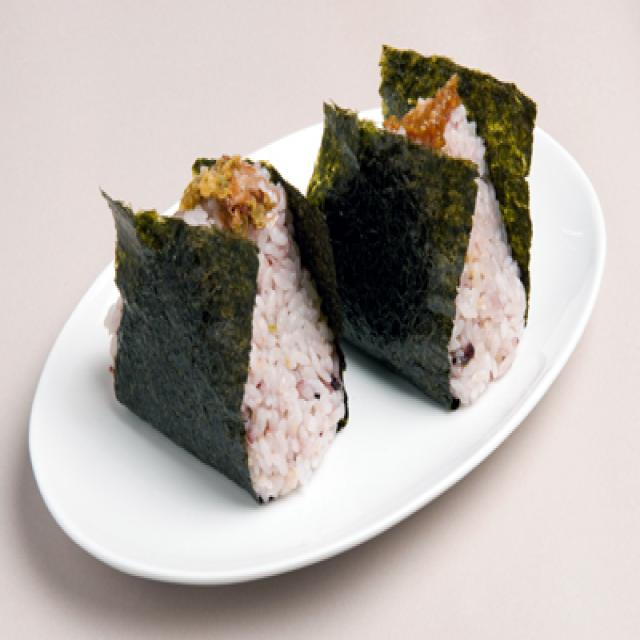米饭主食: (363, 53, 640, 640), (113, 219, 449, 640)
